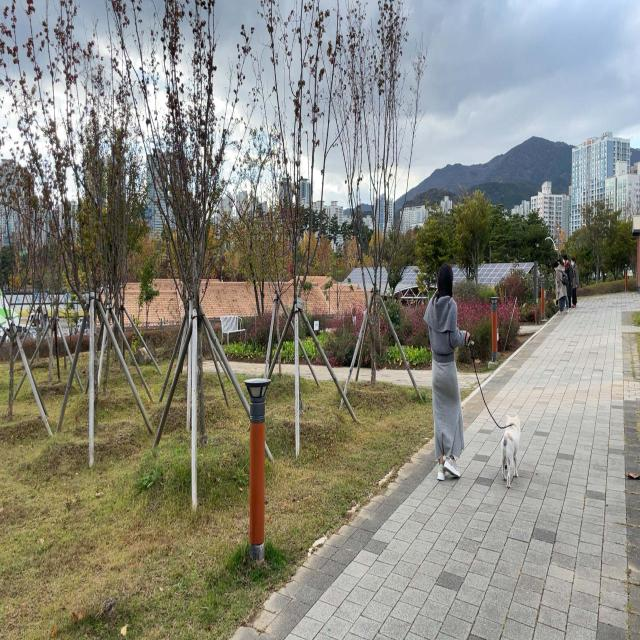Leashed_Dog: (449, 336, 521, 490)
